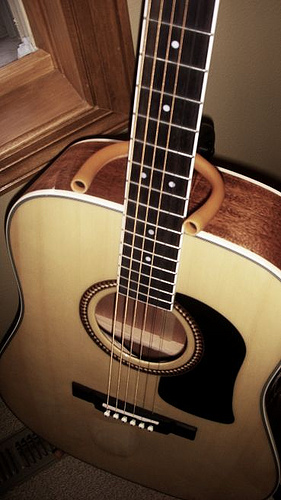guitar: (7, 1, 278, 500)
